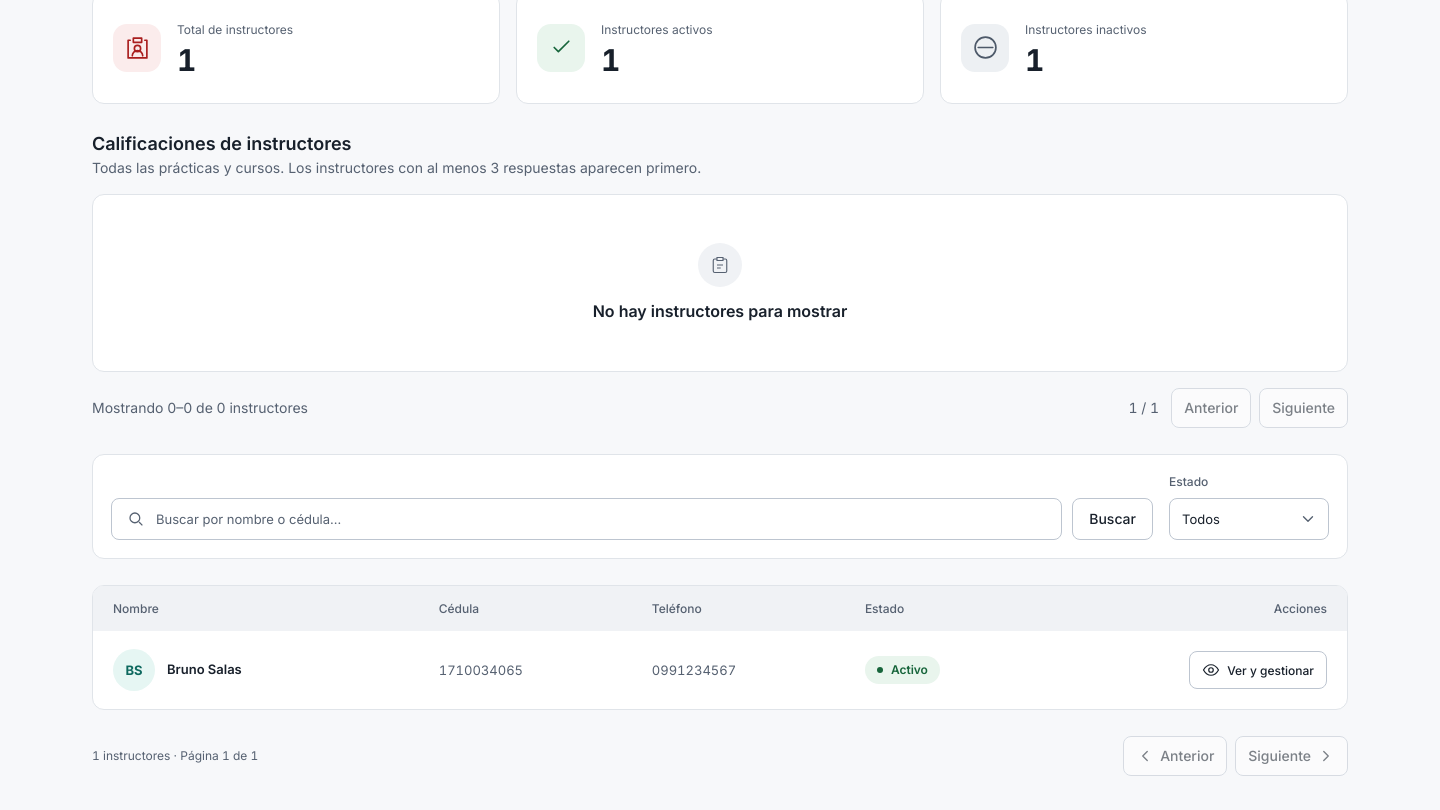
Scenario: InstructorsPage › pide confirmación y muestra el 409 al desactivar
(page scrolled)
Click the button "Ver y gestionar" at (1258, 670), box [1189,651,1327,689]
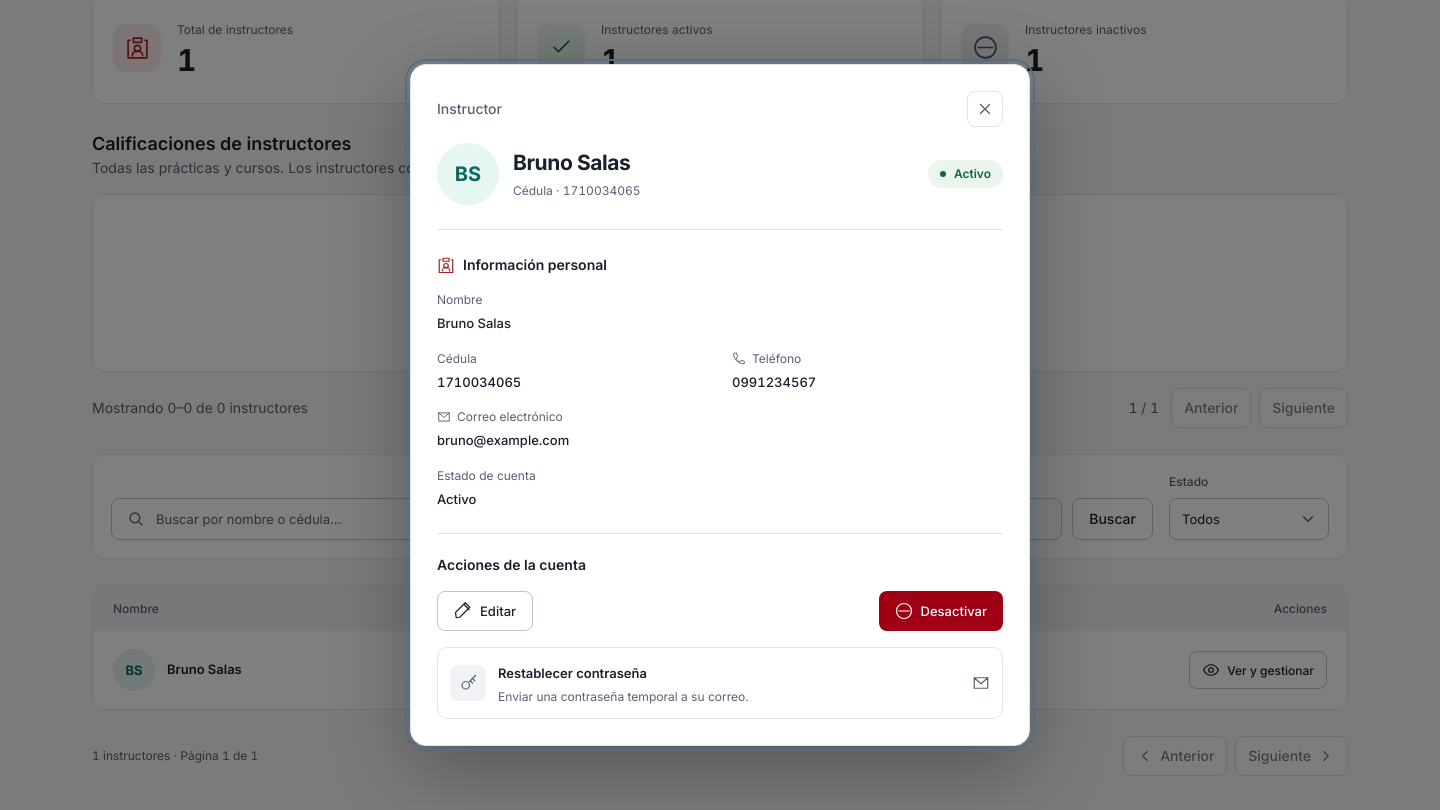
Click the button "Desactivar" at (941, 611), box [879,591,1003,631]
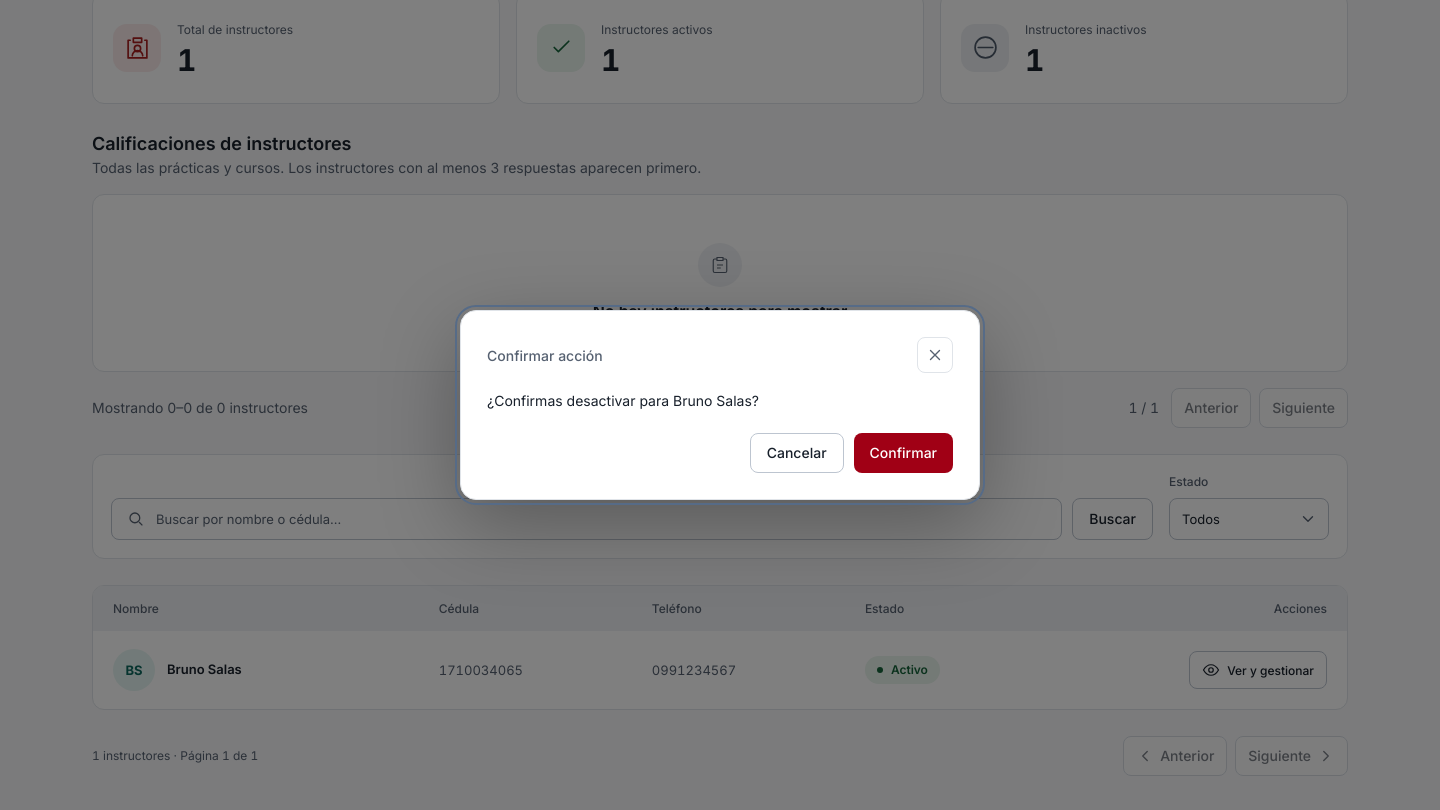
Click the button "Confirmar" at (903, 452), box [854,432,953,472]
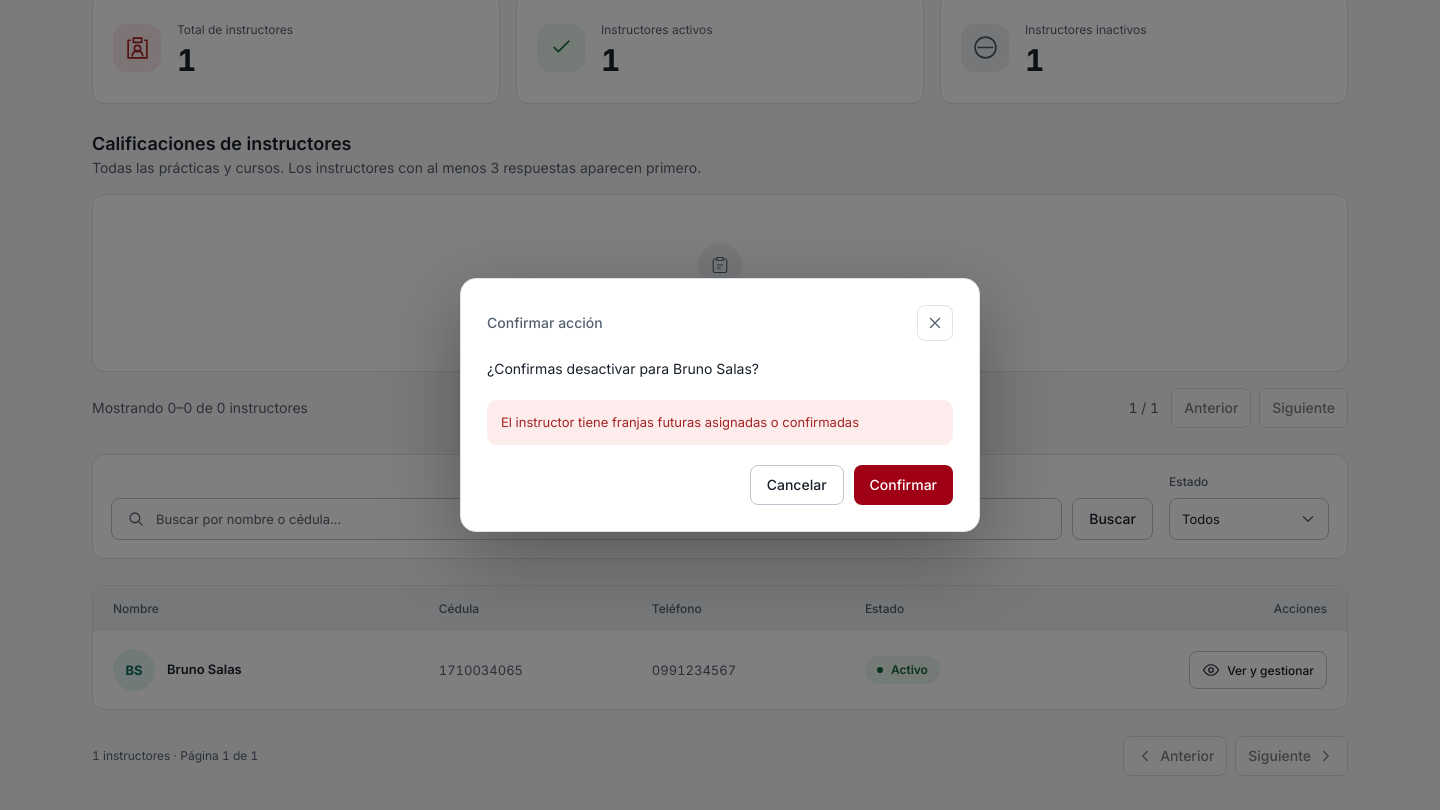
Result: the message reads "El instructor tiene franjas futuras asignadas o confirmadas" at [501,414,859,430]
